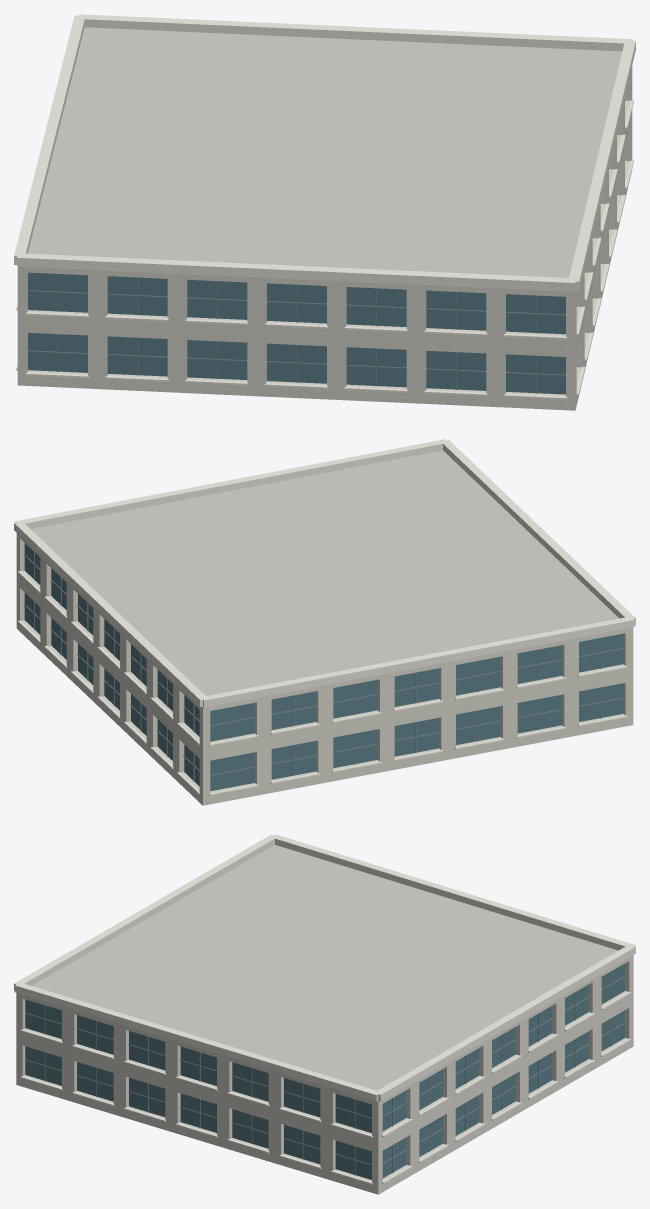
3 renders of one model, top to bottom at view 1: azimuth 30°, elevation 25°; view 2: azimuth 150°, elevation 25°; view 3: azimuth 270°, elevation 25°, orthographic. The views are drawn at different scales.
Parts seen in each view (by area): view 1: roof, wall, glass, trim, metal; view 2: roof, wall, glass, trim, metal; view 3: roof, wall, glass, trim, metal.
Boxes of the visible parts, x1,y1,x2,y2 form: roof: (28, 27, 622, 277); wall: (17, 66, 632, 410); glass: (28, 272, 565, 394); trim: (14, 14, 635, 399); metal: (28, 274, 565, 393); roof: (31, 450, 618, 695); wall: (16, 533, 633, 805); glass: (24, 543, 623, 791); trim: (14, 439, 635, 795); metal: (24, 552, 623, 787); roof: (32, 845, 618, 1090); wall: (16, 955, 633, 1194); glass: (25, 963, 625, 1179); trim: (14, 834, 635, 1184); metal: (25, 971, 625, 1175).
Size of the model in its own units: 35.83 by 6.44 by 36.08.
